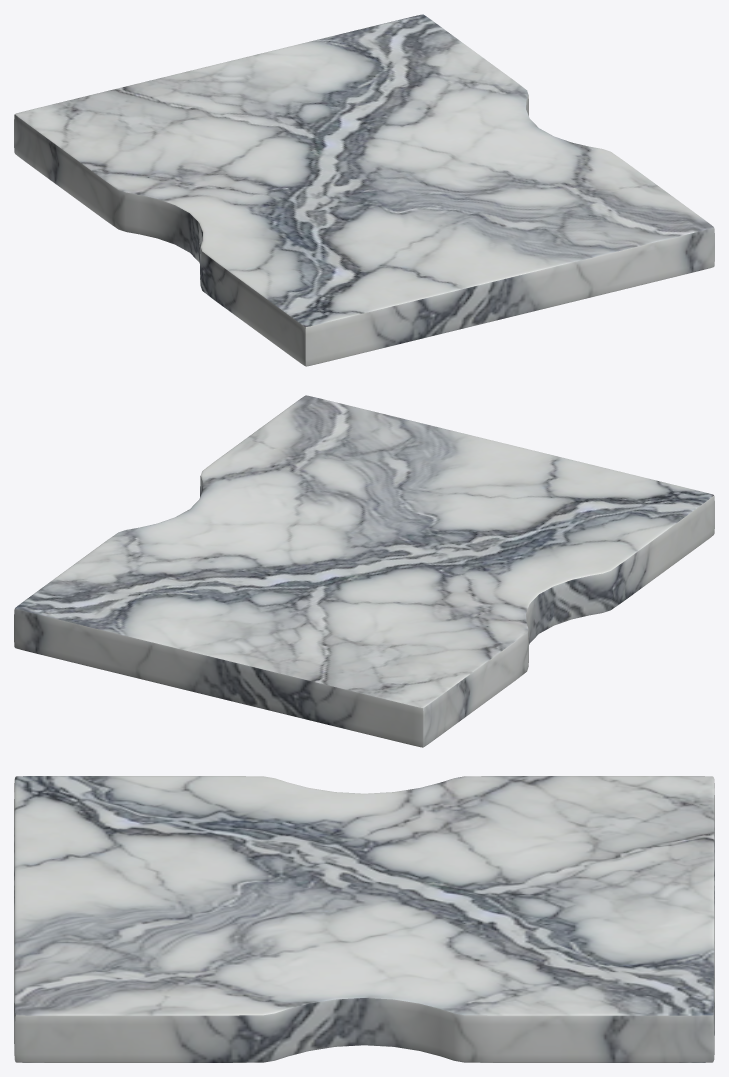
File: sink-cover-one.glb
3 views of the same model, one above another, from view 1: azimuth 30°, elevation 25°; view 2: azimuth 150°, elevation 25°; view 3: azimuth 270°, elevation 25° (orthographic). The views are drawn at different scales.
Visible parts, largest first — view 1: Cube.013; view 2: Cube.013; view 3: Cube.013.
Boxes of the visible parts, left/top/right/bottom form: Cube.013: left=14, top=14, right=714, bottom=366; Cube.013: left=14, top=395, right=714, bottom=747; Cube.013: left=14, top=776, right=714, bottom=1062.
Bounding box in the file's own units: 0.2743 × 0.026 × 0.3385.
1 material, 1 textured.
